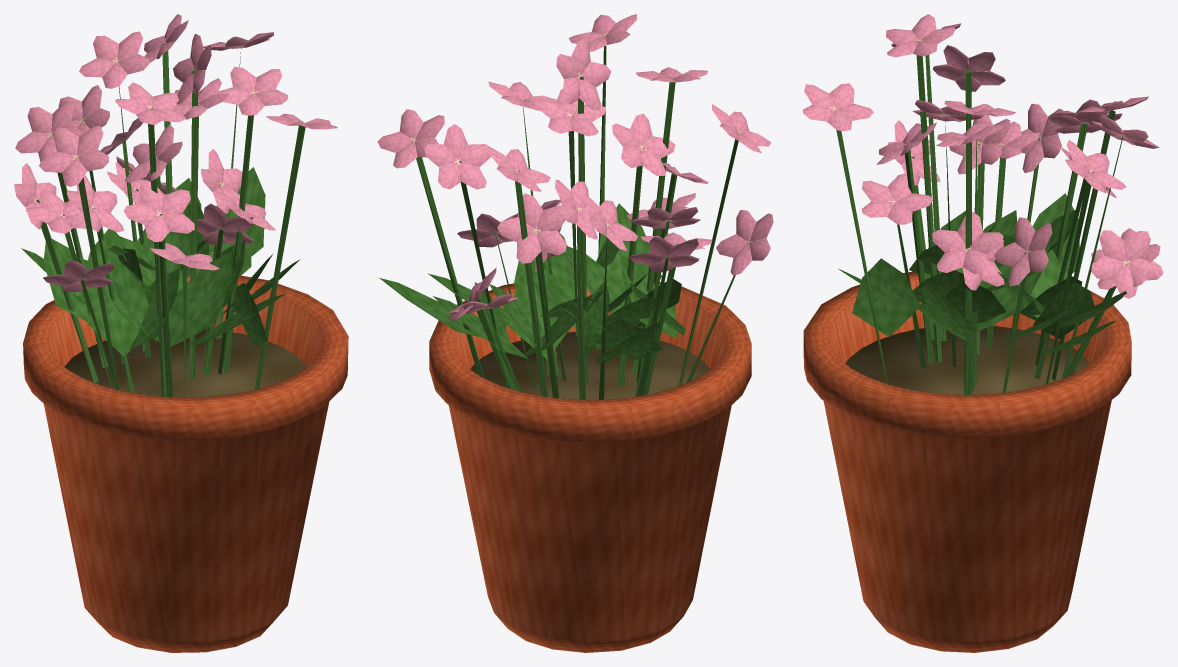
Rendered from flower_planter.glb.
3 views of the same model, side by side, from view 1: azimuth 30°, elevation 25°; view 2: azimuth 150°, elevation 25°; view 3: azimuth 270°, elevation 25° (orthographic). The views are drawn at different scales.
Parts seen in each view (by area): view 1: flower_planter_Structure, flower_planter_Foliage; view 2: flower_planter_Structure, flower_planter_Foliage; view 3: flower_planter_Structure, flower_planter_Foliage.
Part boxes in pixels (x1=…): flower_planter_Structure: x1=23, y1=275, x2=348, y2=652; flower_planter_Foliage: x1=14, y1=14, x2=337, y2=397; flower_planter_Structure: x1=429, y1=282, x2=751, y2=652; flower_planter_Foliage: x1=377, y1=14, x2=773, y2=399; flower_planter_Structure: x1=803, y1=271, x2=1131, y2=652; flower_planter_Foliage: x1=802, y1=14, x2=1163, y2=394.
Bounding box in the file's own units: 0.7282 × 1.28 × 0.727.
2 materials, 2 textured.
